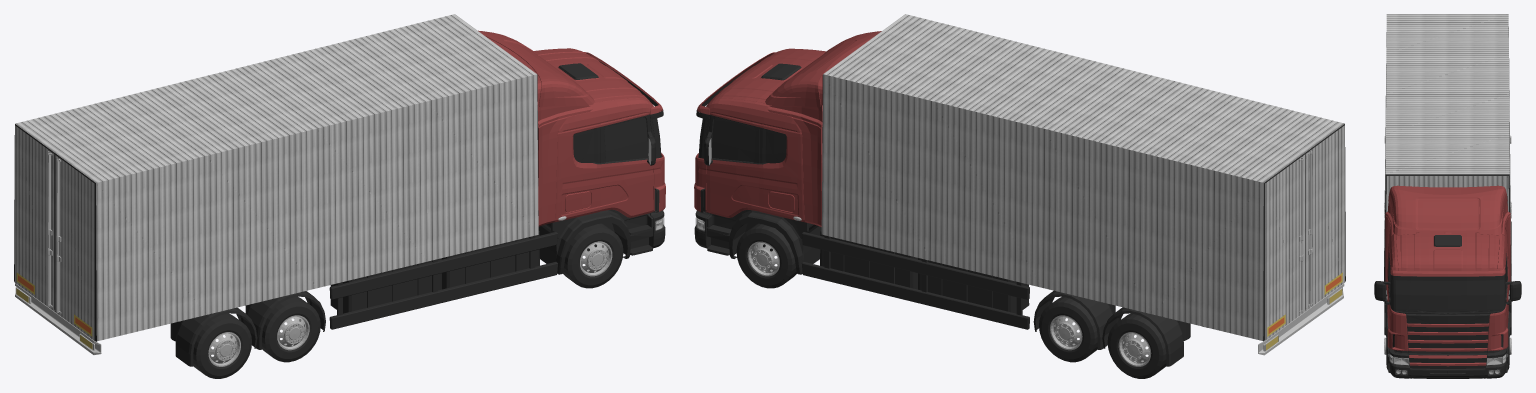
Rendered from Truck.FBX.
3 renders of one model, left to right at view 1: azimuth 30°, elevation 25°; view 2: azimuth 150°, elevation 25°; view 3: azimuth 270°, elevation 25°, orthographic. The views are drawn at different scales.
Visible parts, largest first — view 1: Kache_05, Kache_07, Kache_08, Kache_01, Kache_02, Kache_04; view 2: Kache_05, Kache_07, Kache_08, Kache_01, Kache_02, Kache_04; view 3: Kache_05, Kache_08, Kache_07, Kache_02, Kache_06, Kache_04, Kache_01.
Boxes of the visible parts, x1,y1,x2,y2 form: Kache_05: (14, 14, 538, 341); Kache_07: (14, 61, 665, 366); Kache_08: (478, 30, 665, 226); Kache_01: (193, 223, 623, 378); Kache_02: (16, 117, 661, 349); Kache_04: (15, 151, 662, 354); Kache_05: (821, 14, 1345, 341); Kache_07: (694, 62, 1345, 366); Kache_08: (694, 31, 881, 226); Kache_01: (736, 223, 1203, 378); Kache_02: (698, 117, 1342, 350); Kache_04: (697, 151, 1344, 355); Kache_05: (1384, 14, 1511, 294); Kache_08: (1385, 185, 1510, 366); Kache_07: (1374, 174, 1521, 378); Kache_02: (1389, 259, 1506, 312); Kache_06: (1387, 353, 1508, 374); Kache_04: (1384, 135, 1511, 374); Kache_01: (1384, 202, 1511, 370).
Size of the model in its own units: 8.24 by 3.09 by 2.4.
9 materials, 1 textured.
